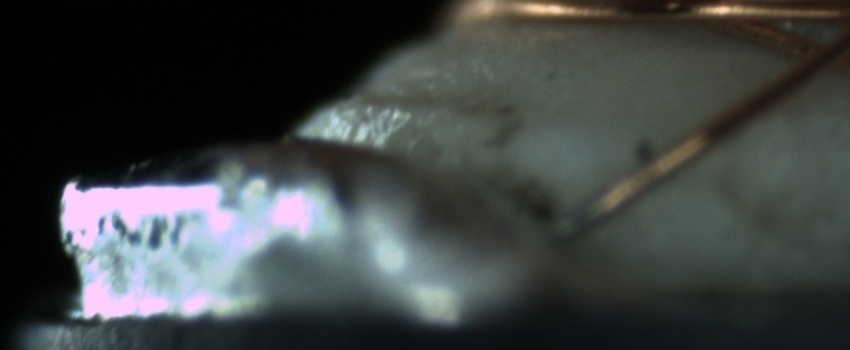CL: (782, 29, 845, 82)
TS: (548, 195, 604, 244)
